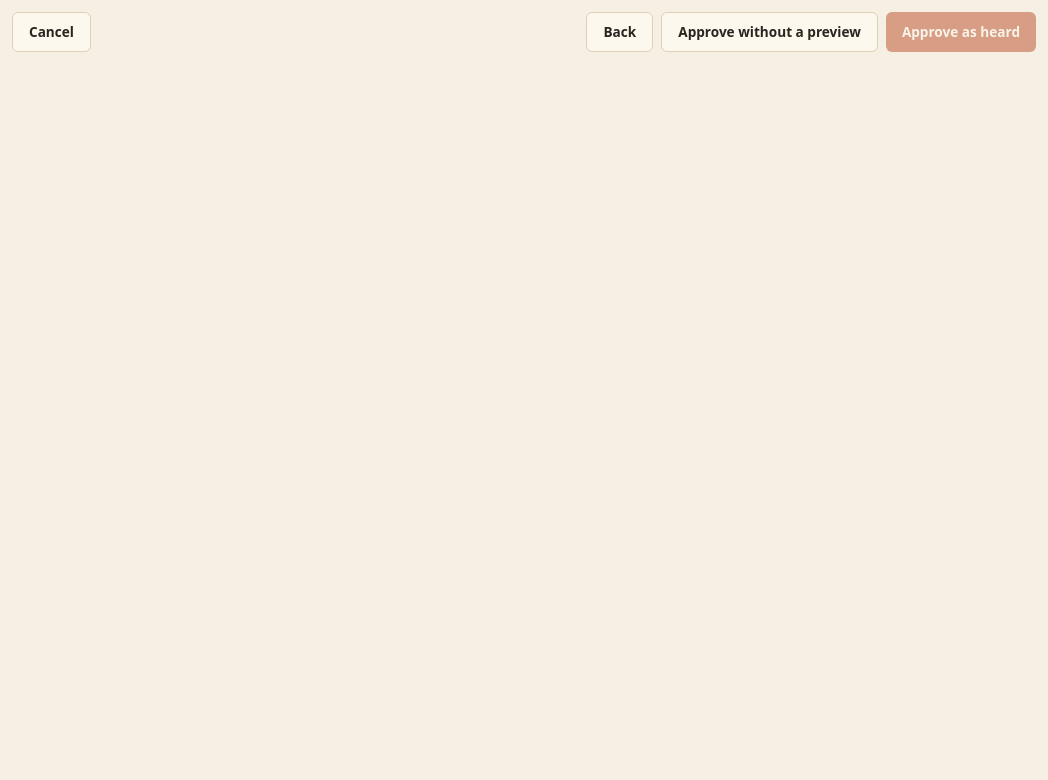
Feature: Approve tells me when the station will render it › Scenario: the wizard's approve-without-a-preview names the window › toasts 'Approved. The station will render it within 10 minutes.' — AC5
This screenshot has width=1048, height=780.
Click the button "Approve without a preview".
click(770, 32)  # box x1=661 y1=12 x2=878 y2=52
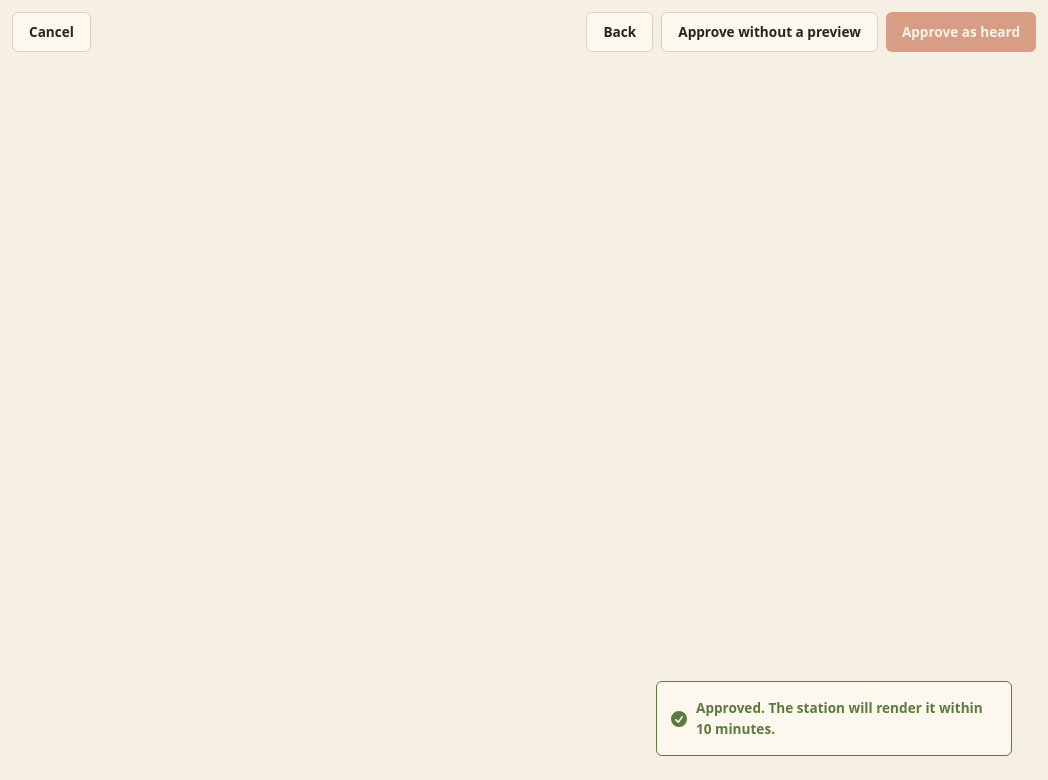
Result: the text "Approved. The station will render it within 10 minutes." is shown at x1=696 y1=698 x2=995 y2=739
